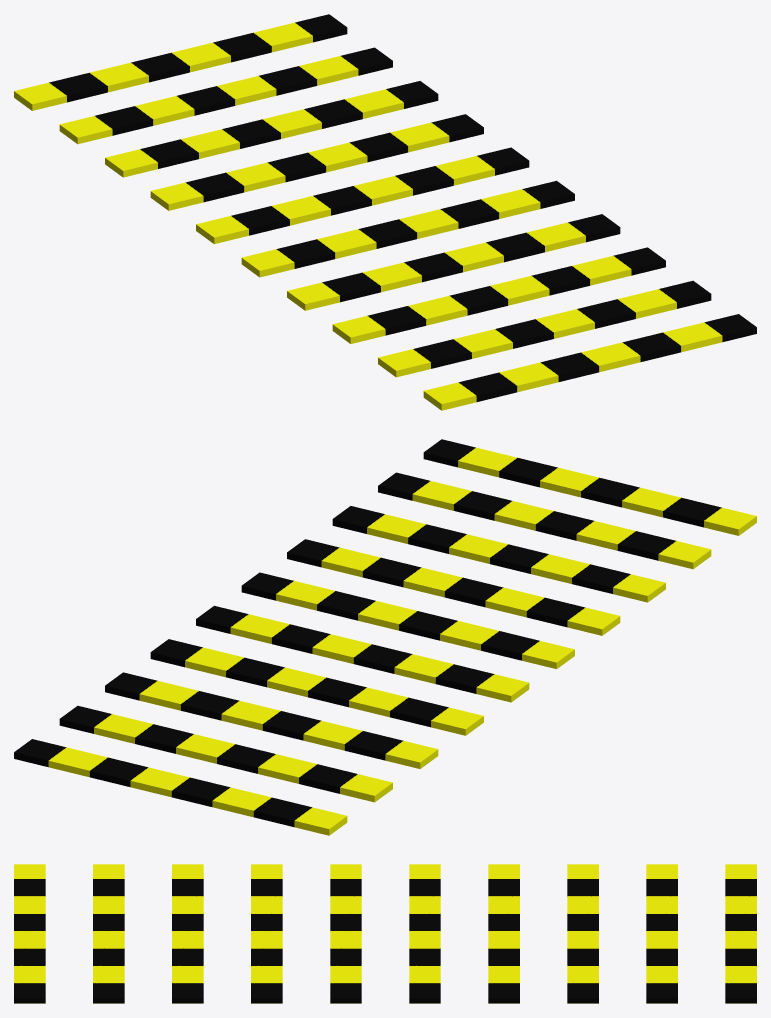
The model's file is Speed_Bump.obj.
The picture shows the model from 3 angles, top to bottom: view 1: azimuth 30°, elevation 25°; view 2: azimuth 150°, elevation 25°; view 3: azimuth 270°, elevation 25°; orthographic projection. The views are drawn at different scales.
Visible parts, largest first — view 1: Speed_Bump; view 2: Speed_Bump; view 3: Speed_Bump.
Part boxes in pixels (x1,y1,x2,y2): Speed_Bump: [14, 14, 756, 410]; Speed_Bump: [14, 439, 756, 835]; Speed_Bump: [14, 864, 756, 1003].
Size of the model in its own units: 5 by 0.1 by 11.75.
